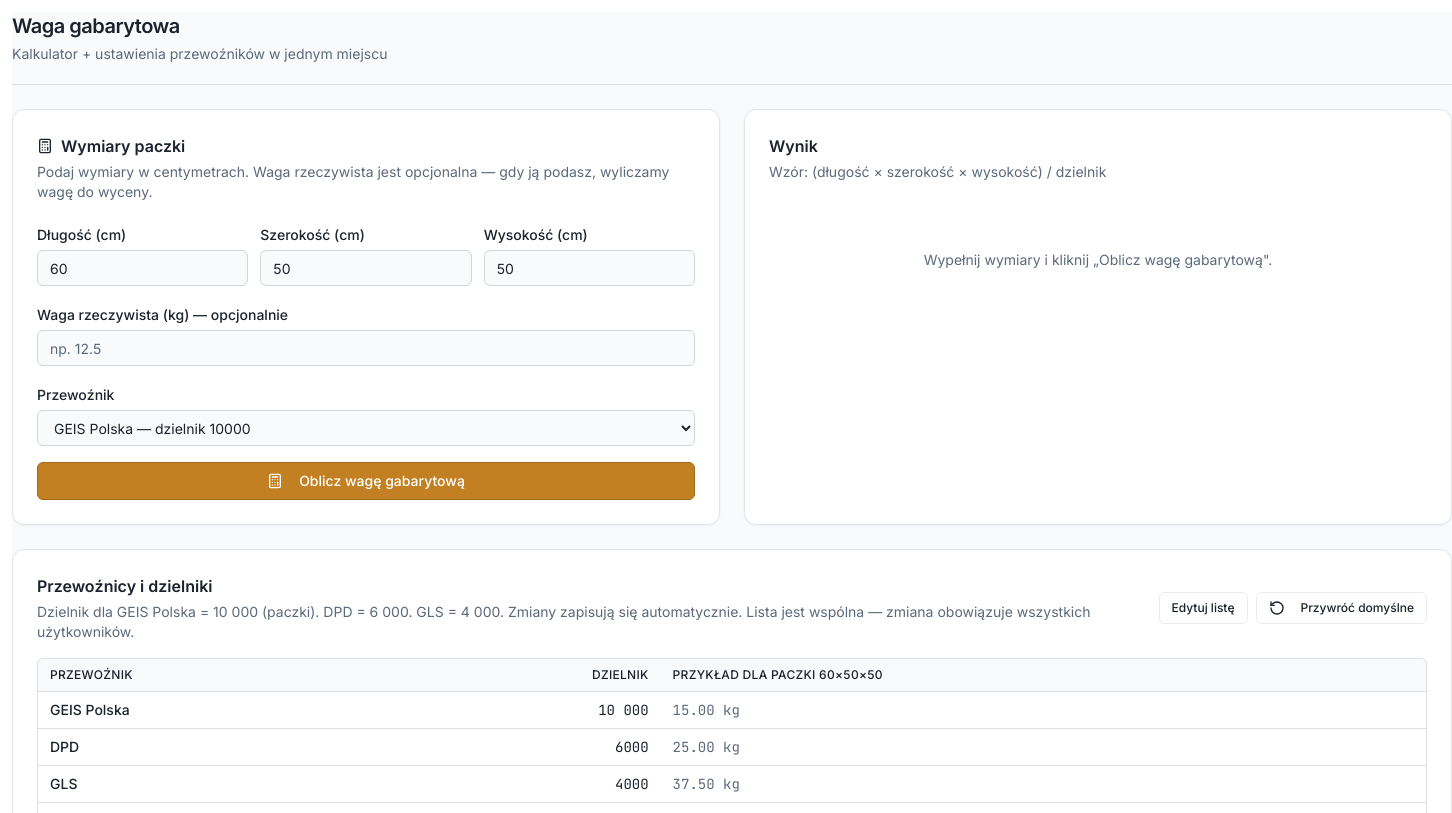
widok wagi gabarytowej — kalkulator wolumetryczny › zmiana przewoźnika przelicza wynik innym dzielnikiem
Expected: the button with test id "button-edycja-przewoznikow" is shown, x1=1158 y1=592 x2=1248 y2=624
Select "GLS — dzielnik 4000" in the dropdown with test id "select-przewoznik": (366, 428) x1=37 y1=410 x2=695 y2=446
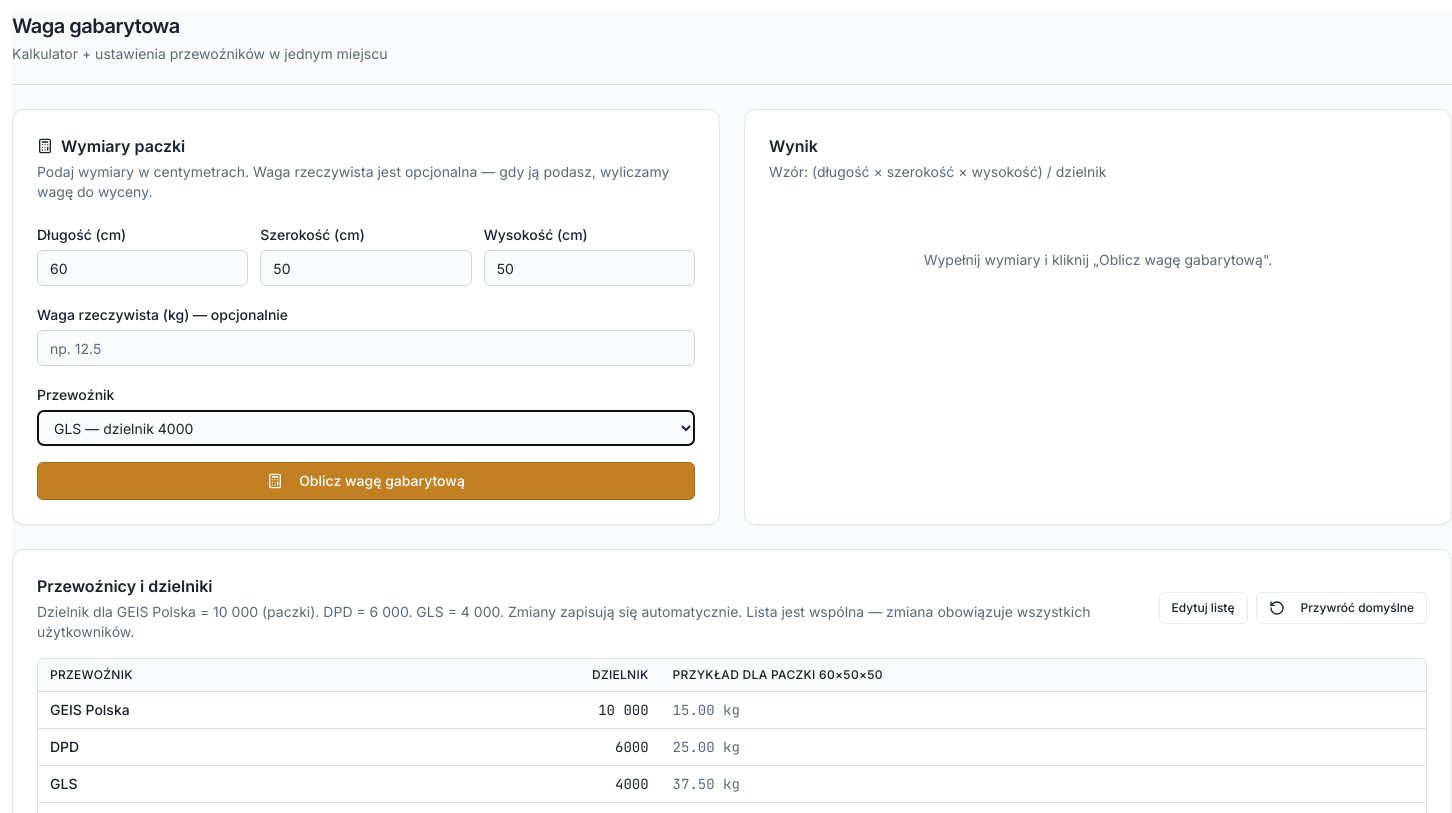
Click the button with test id "button-oblicz": (366, 481) x1=37 y1=462 x2=695 y2=500
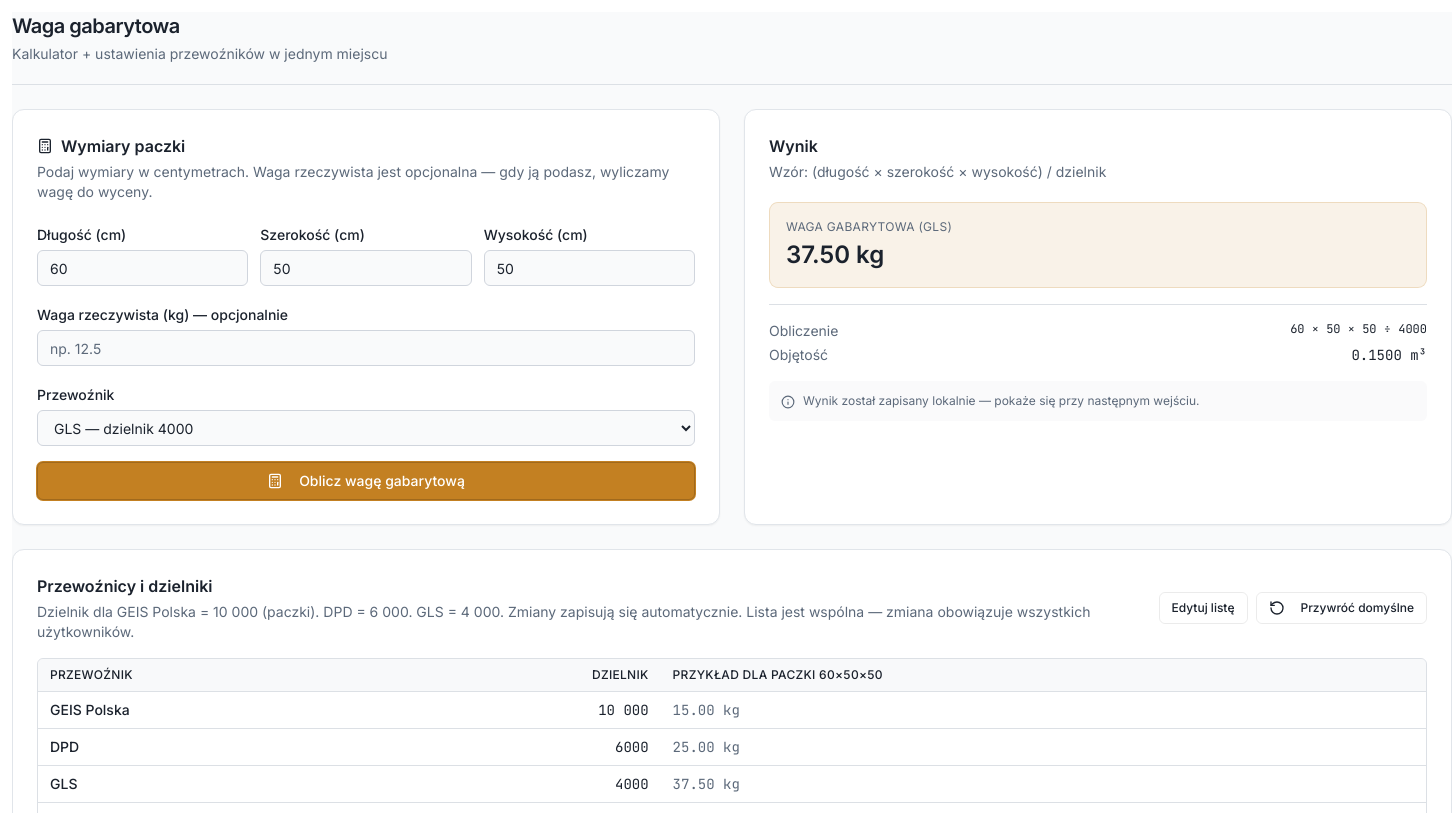
Result: the text with test id "text-wynik-waga" reads "37.50 kg" at x1=786 y1=240 x2=884 y2=269
